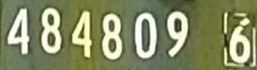eight: (102, 14, 124, 62), (41, 9, 63, 55)
four: (8, 8, 31, 55), (73, 12, 94, 60)
nine: (167, 12, 191, 61)
six: (230, 18, 252, 63)
zero: (136, 13, 159, 61)
